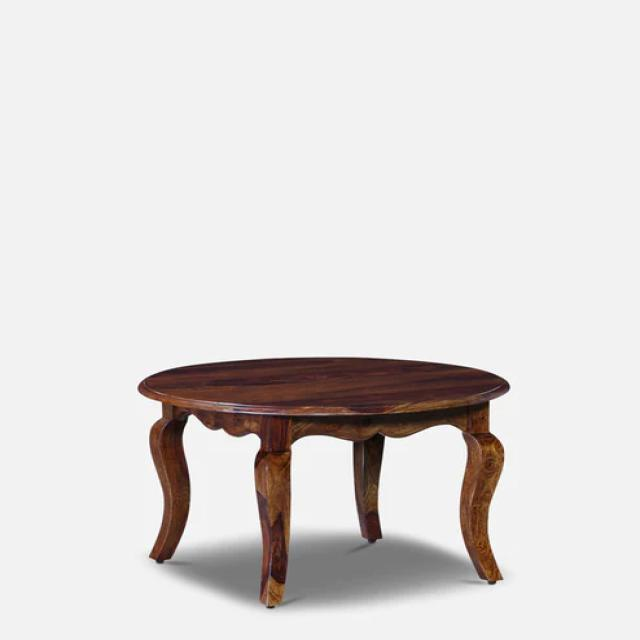obstacle: (101, 297, 606, 614)
